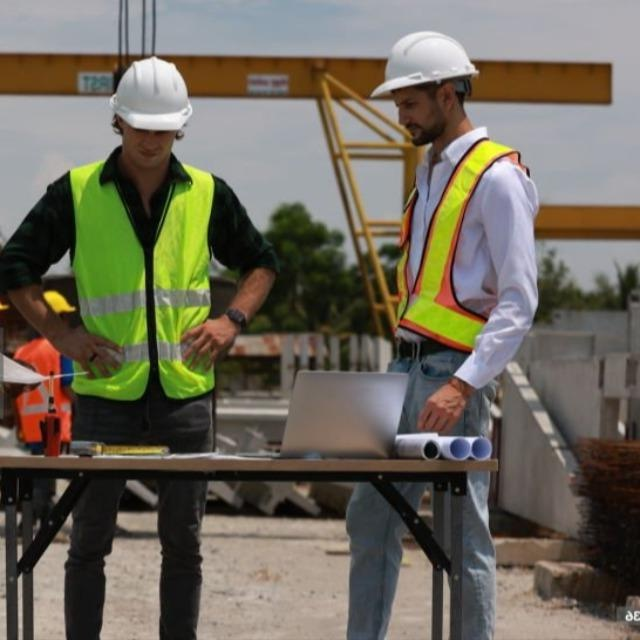Con_Casco: (370, 31, 479, 147), (108, 57, 192, 163)
Con_Chaleco: (61, 157, 228, 403), (390, 143, 542, 357)
